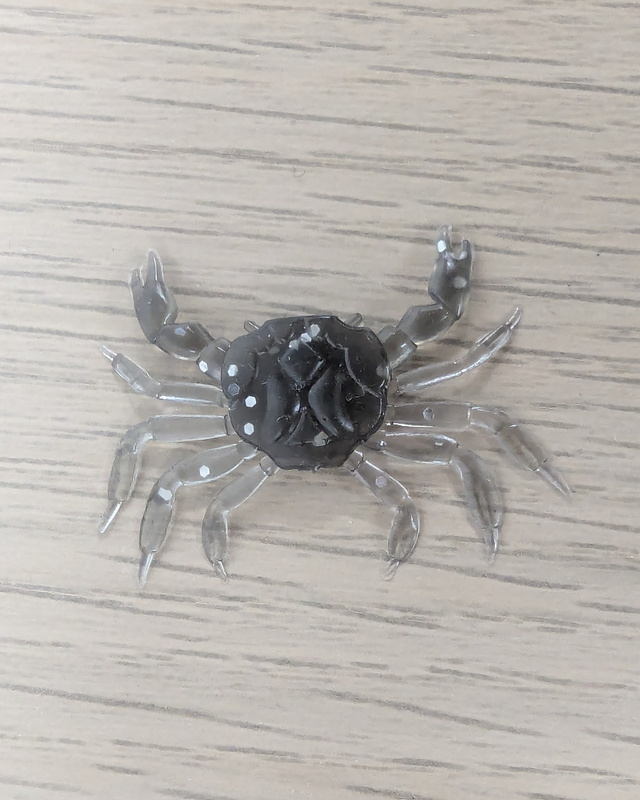crab1: (99, 219, 580, 590)
